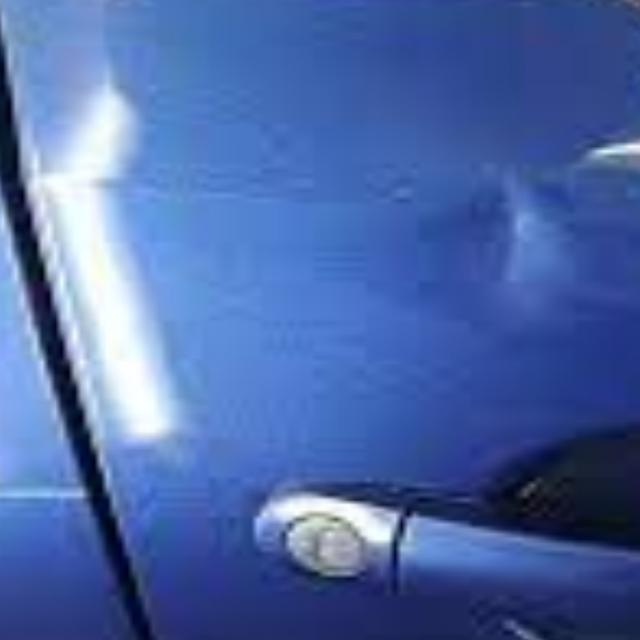dents: (387, 181, 640, 342)
